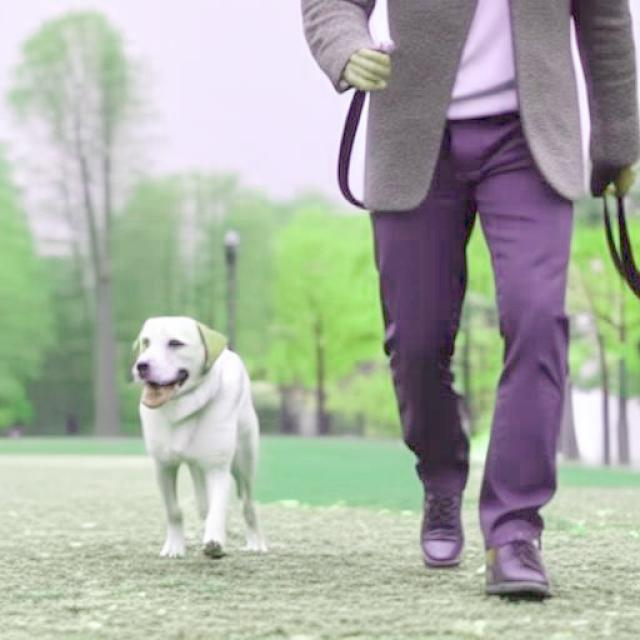Unleashed_Dog: (123, 64, 568, 560)
